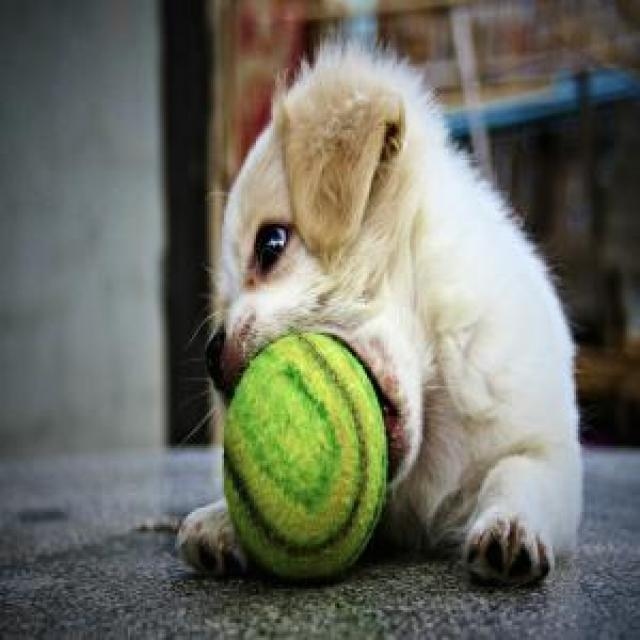Tennis-Ball: (206, 332, 402, 588)
